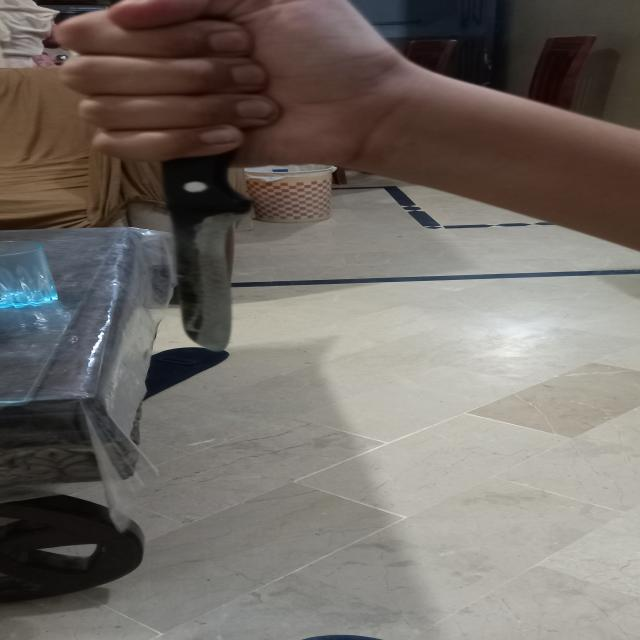weapon: (87, 32, 276, 358)
